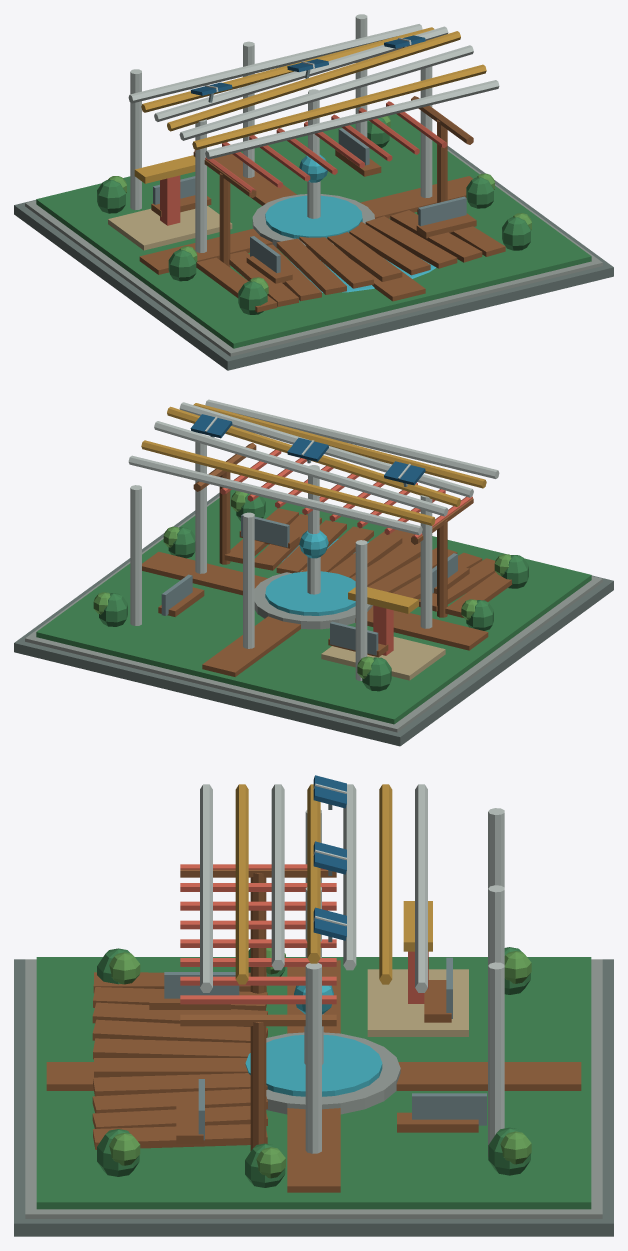
Rendered from park_lv4.glb.
3 renders of one model, top to bottom at view 1: azimuth 30°, elevation 25°; view 2: azimuth 150°, elevation 25°; view 3: azimuth 270°, elevation 25°, orthographic. The views are drawn at different scales.
Parts seen in each view (by area): view 1: rough, glossy, metallic; view 2: rough, metallic, glossy; view 3: rough, metallic, glossy.
Part boxes in pixels (x1,y1,x2,y2): rough: (14, 14, 613, 370); glossy: (265, 154, 436, 292); metallic: (153, 35, 466, 272); rough: (14, 399, 613, 746); metallic: (161, 414, 457, 655); glossy: (265, 530, 368, 615); rough: (14, 783, 613, 1236); metallic: (164, 775, 486, 1140); glossy: (245, 985, 382, 1096).
Bounding box in the file's own units: 9.6 × 4.3 × 9.2.
